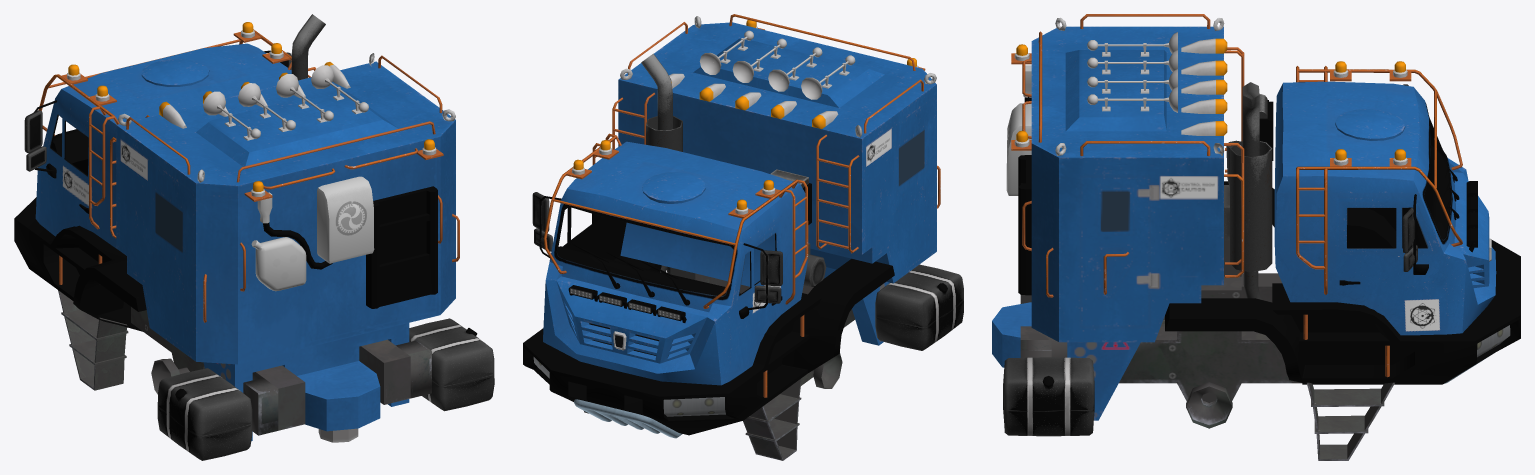
Rendered from Head KAMAZ Arctica.fbx.
The picture shows the model from 3 angles, left to right: view 1: azimuth 30°, elevation 25°; view 2: azimuth 150°, elevation 25°; view 3: azimuth 270°, elevation 25°; orthographic projection. The views are drawn at different scales.
Parts seen in each view (by area): view 1: Cabin_low, DeCabin2_low, Khung_low; view 2: Cabin_low, DeCabin2_low, Khung_low; view 3: Cabin_low, DeCabin2_low, Khung_low.
Boxes of the visible parts, x1,y1,x2,y2 form: Cabin_low: (35, 43, 455, 442); DeCabin2_low: (24, 14, 494, 460); Khung_low: (14, 197, 431, 435); Cabin_low: (543, 22, 936, 385); DeCabin2_low: (532, 14, 963, 460); Khung_low: (523, 255, 894, 435); Cabin_low: (992, 26, 1496, 420); DeCabin2_low: (1003, 14, 1491, 460); Khung_low: (1020, 181, 1520, 428).
Bounding box in the file's own units: 4.12 × 4.8 × 6.28.
